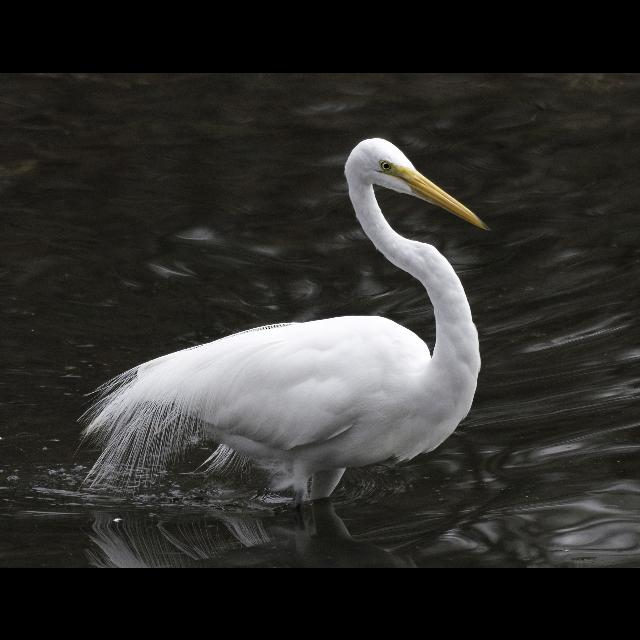egret: (75, 126, 495, 530)
